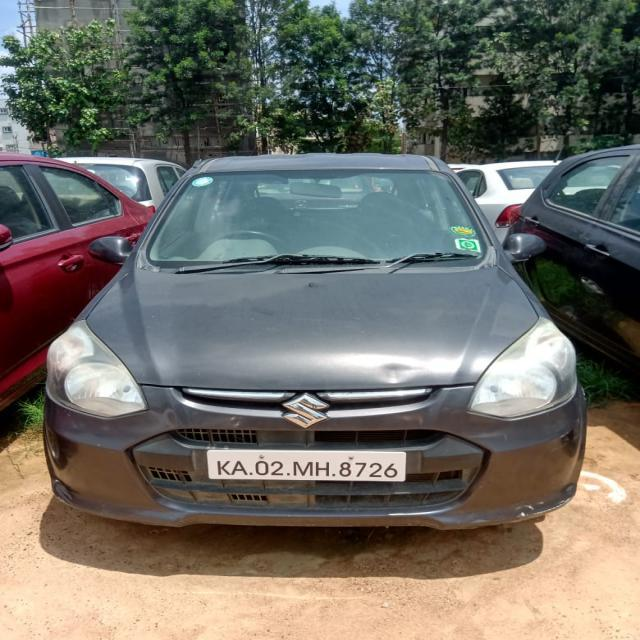bonnet-dent: (162, 257, 477, 409)
